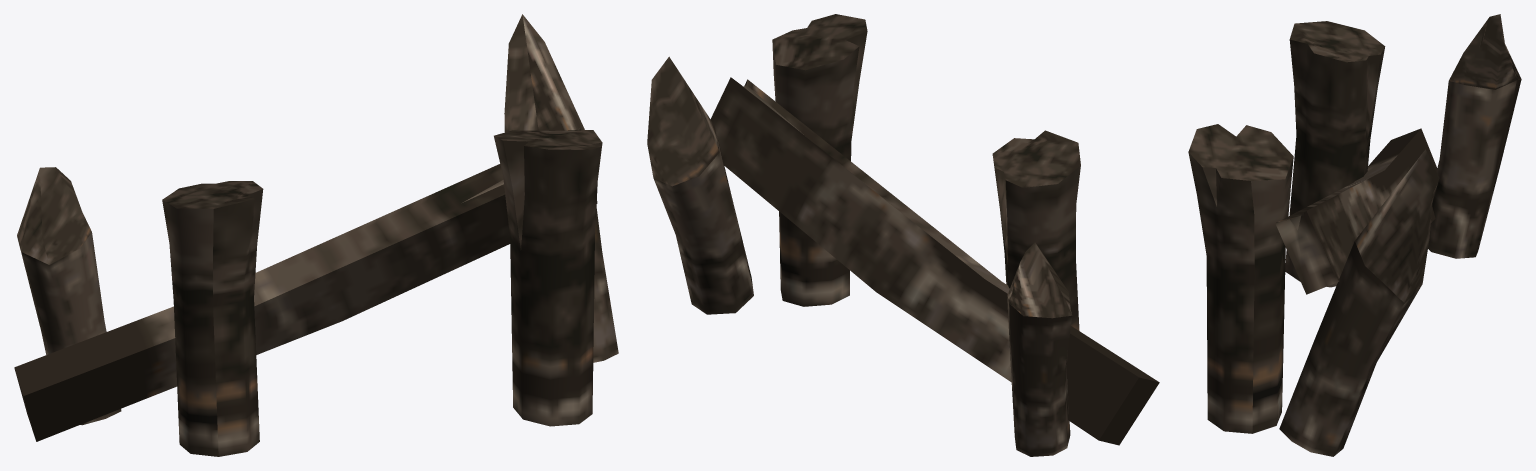
The model's file is barricade_01_f3cddb1c.glb.
The picture shows the model from 3 angles, left to right: view 1: azimuth 30°, elevation 25°; view 2: azimuth 150°, elevation 25°; view 3: azimuth 270°, elevation 25°; orthographic projection. The views are drawn at different scales.
Bounding box in the file's own units: 3.8 × 2.06 × 2.08.
1 material, 1 textured.
